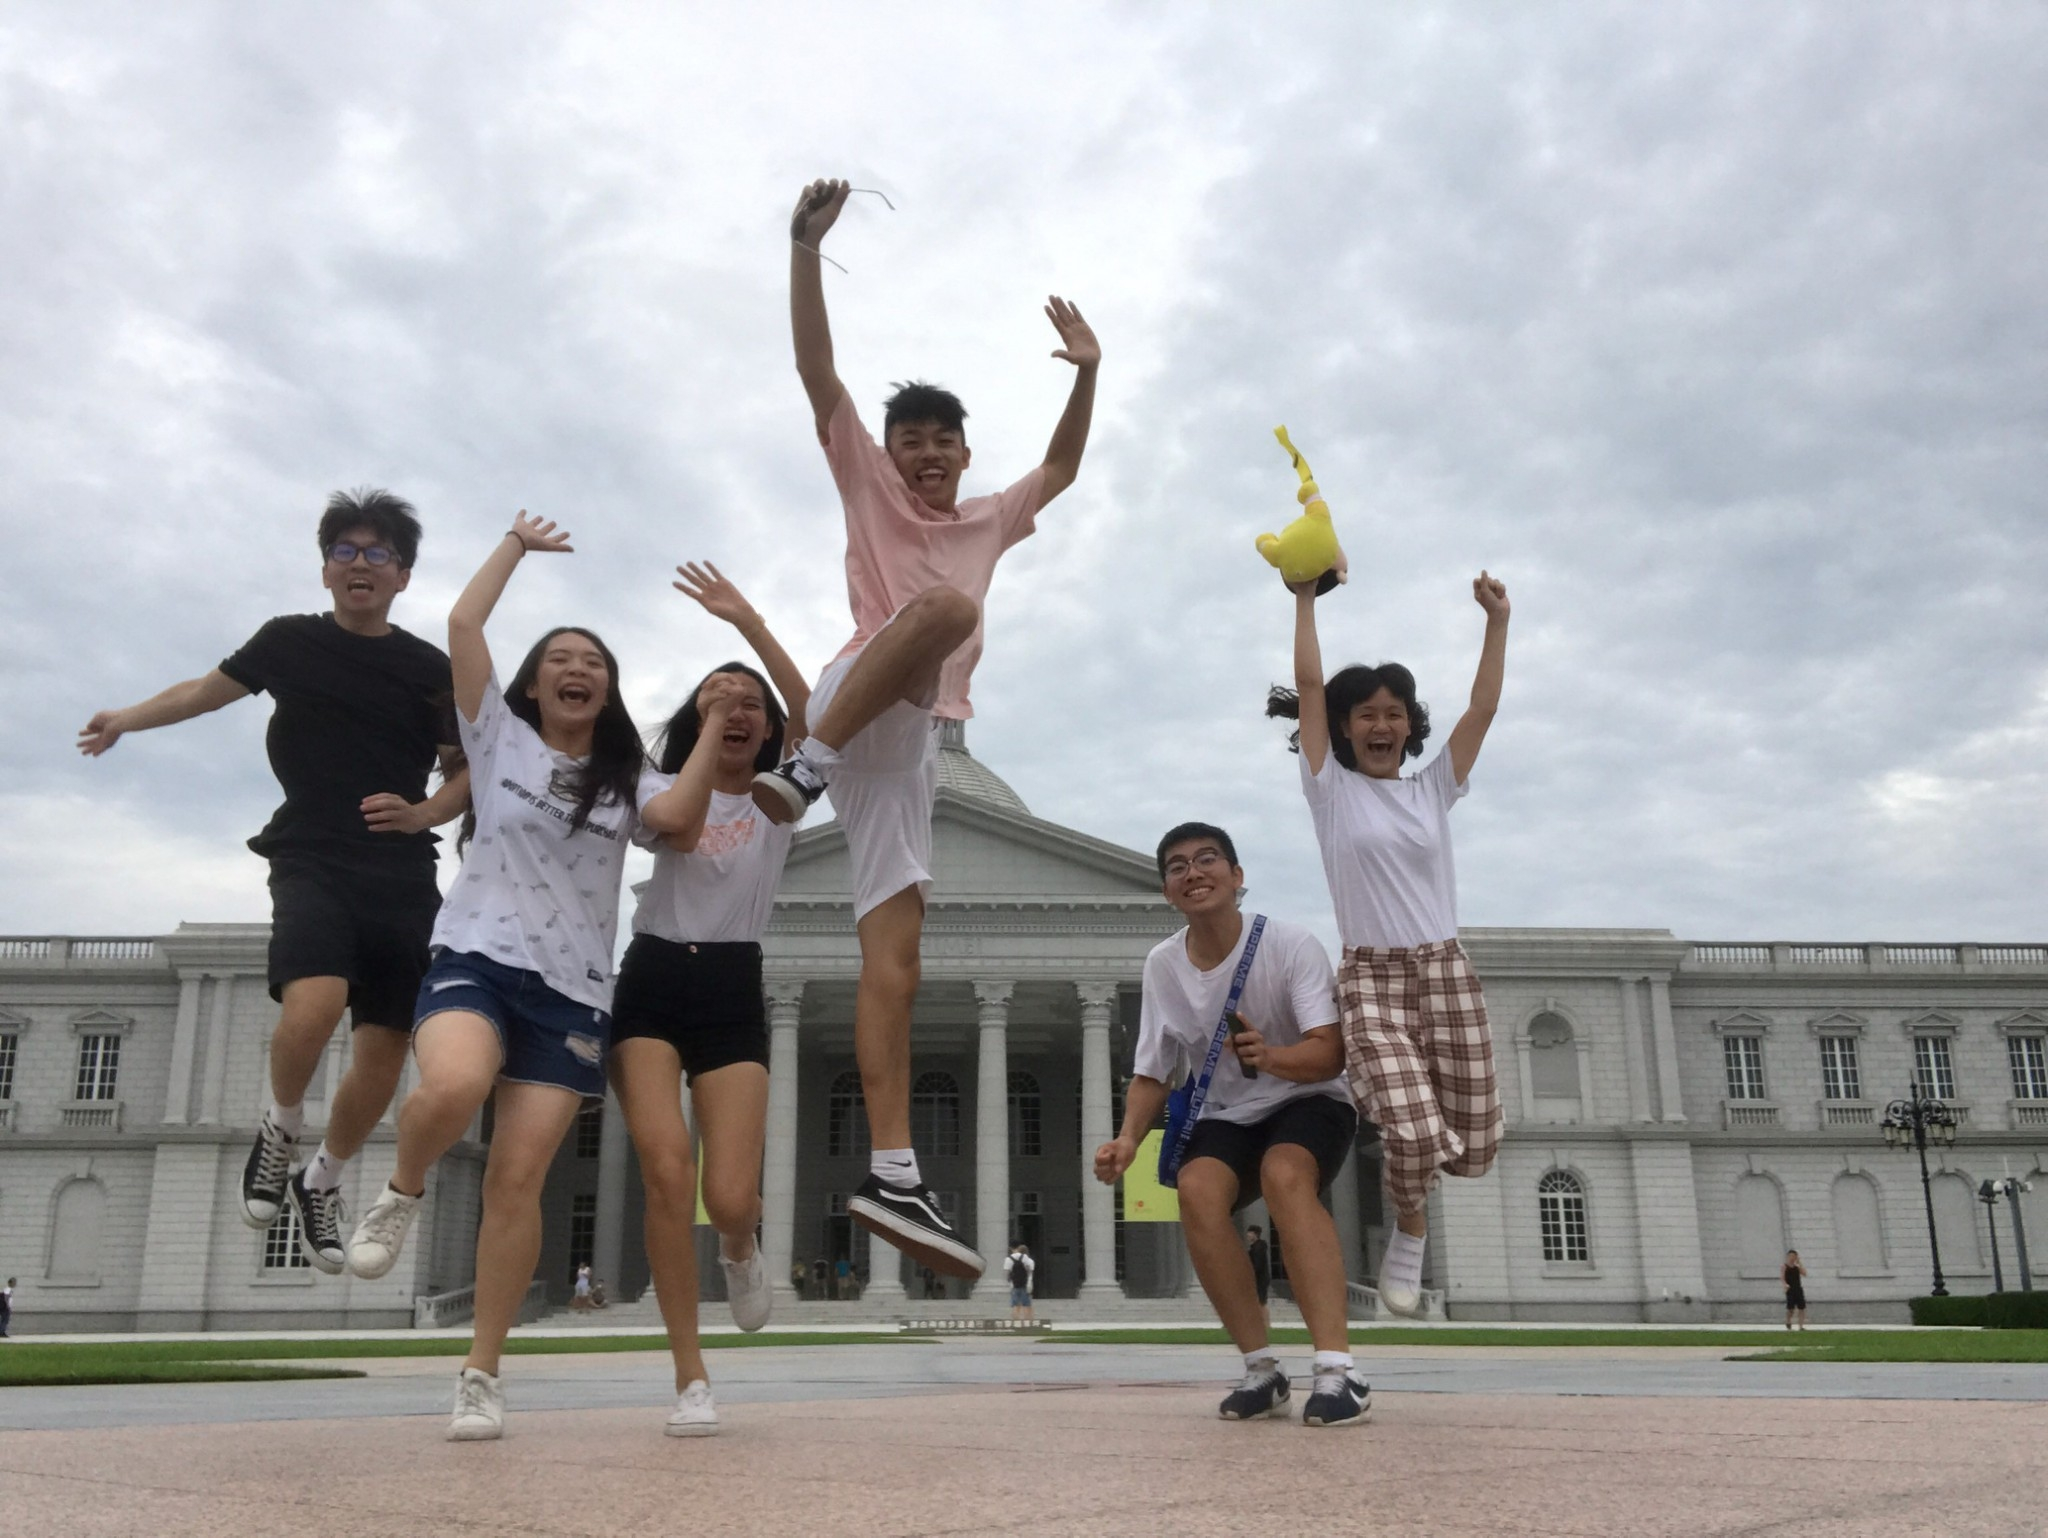people: (819, 373, 1019, 1297), (1272, 644, 1531, 1338), (1122, 823, 1399, 1441), (457, 620, 631, 1464), (634, 659, 804, 1447), (249, 488, 416, 1270)
